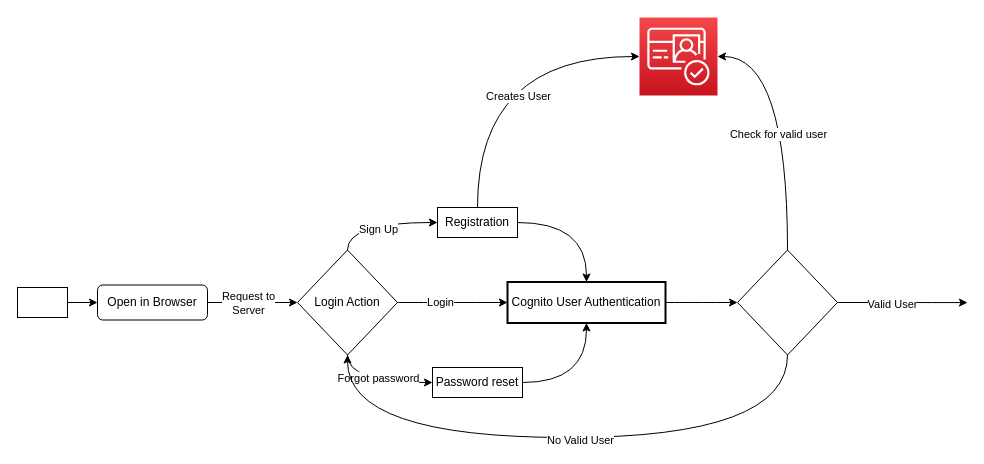
The diagram is 984 pixels wide and 464 high, and some of its shapes have lost their labels. Here are the shapes that lost their labels. From the top down, the centre of each, then its label:
At (42,302): "Start".
At (787,302): "Valid User?".
